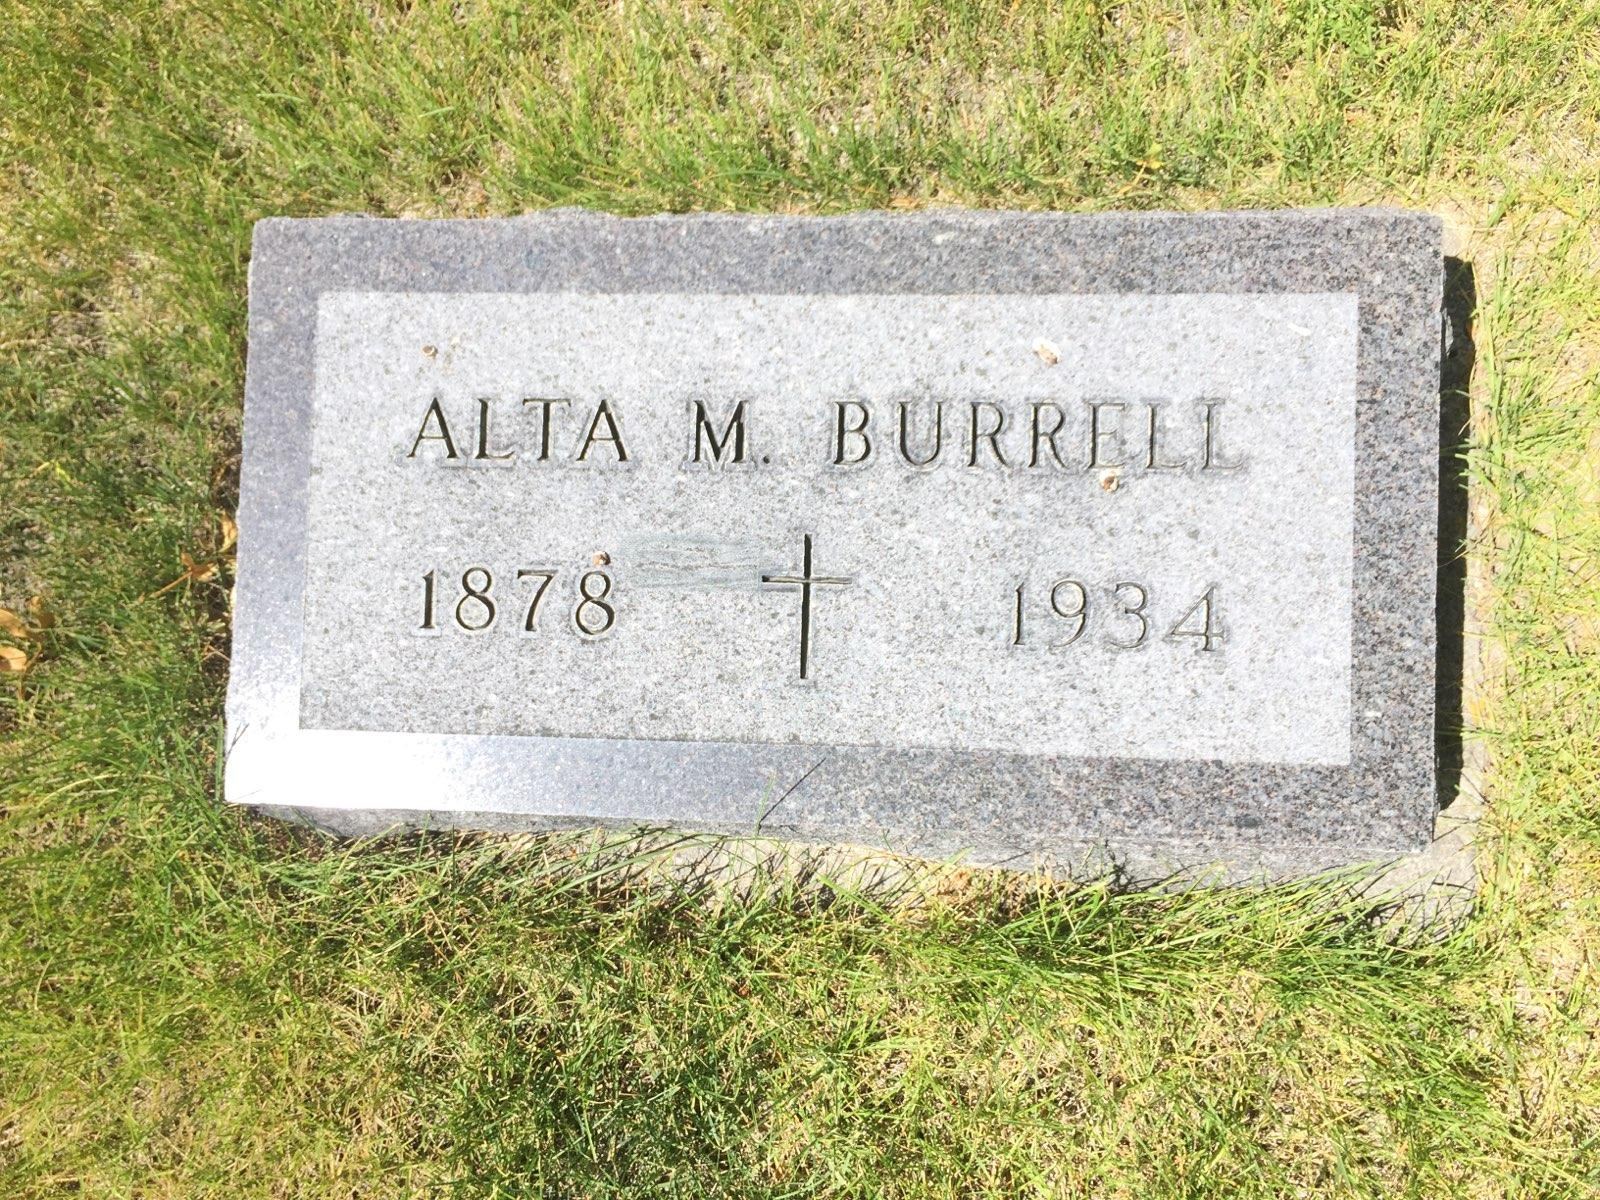flat: (219, 171, 1439, 865)
